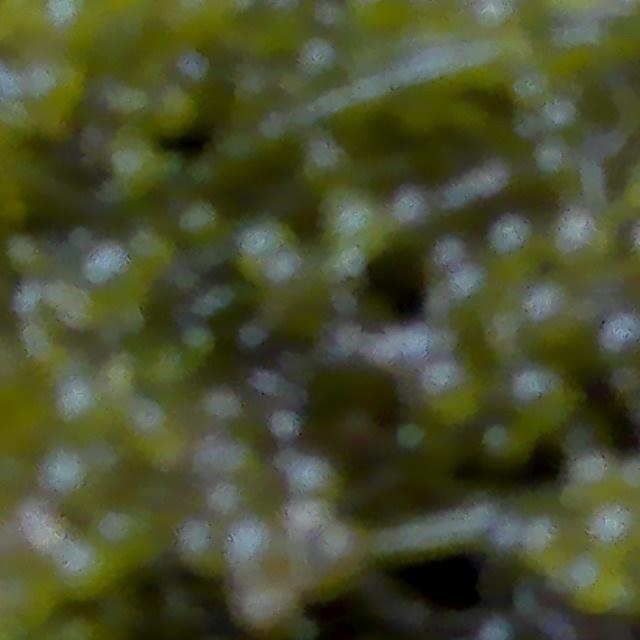SeaGrape: (407, 351, 478, 423), (505, 364, 576, 425), (517, 282, 578, 340), (555, 209, 612, 268), (591, 500, 640, 563), (45, 0, 104, 52), (527, 520, 578, 572), (570, 565, 622, 604)
